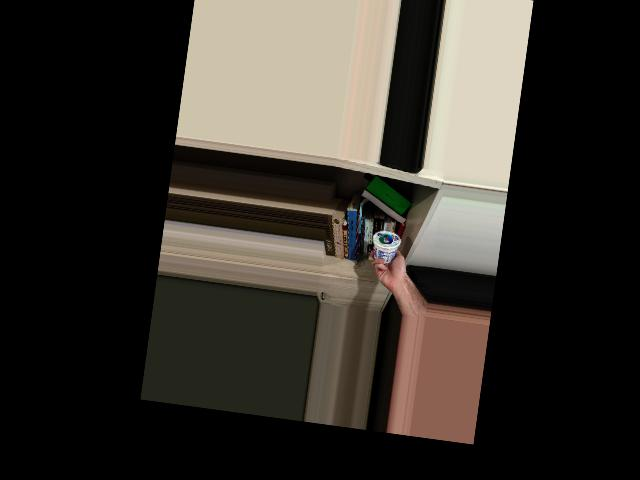cotage: (368, 227, 401, 270)
